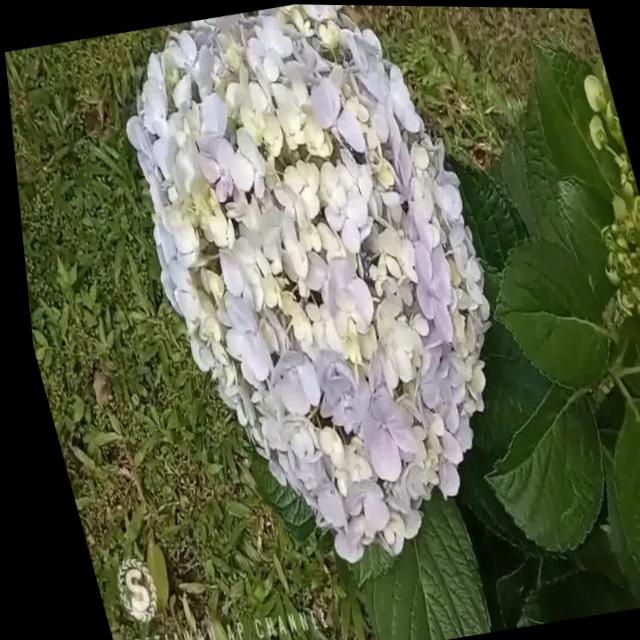Flower: (92, 1, 546, 578)
